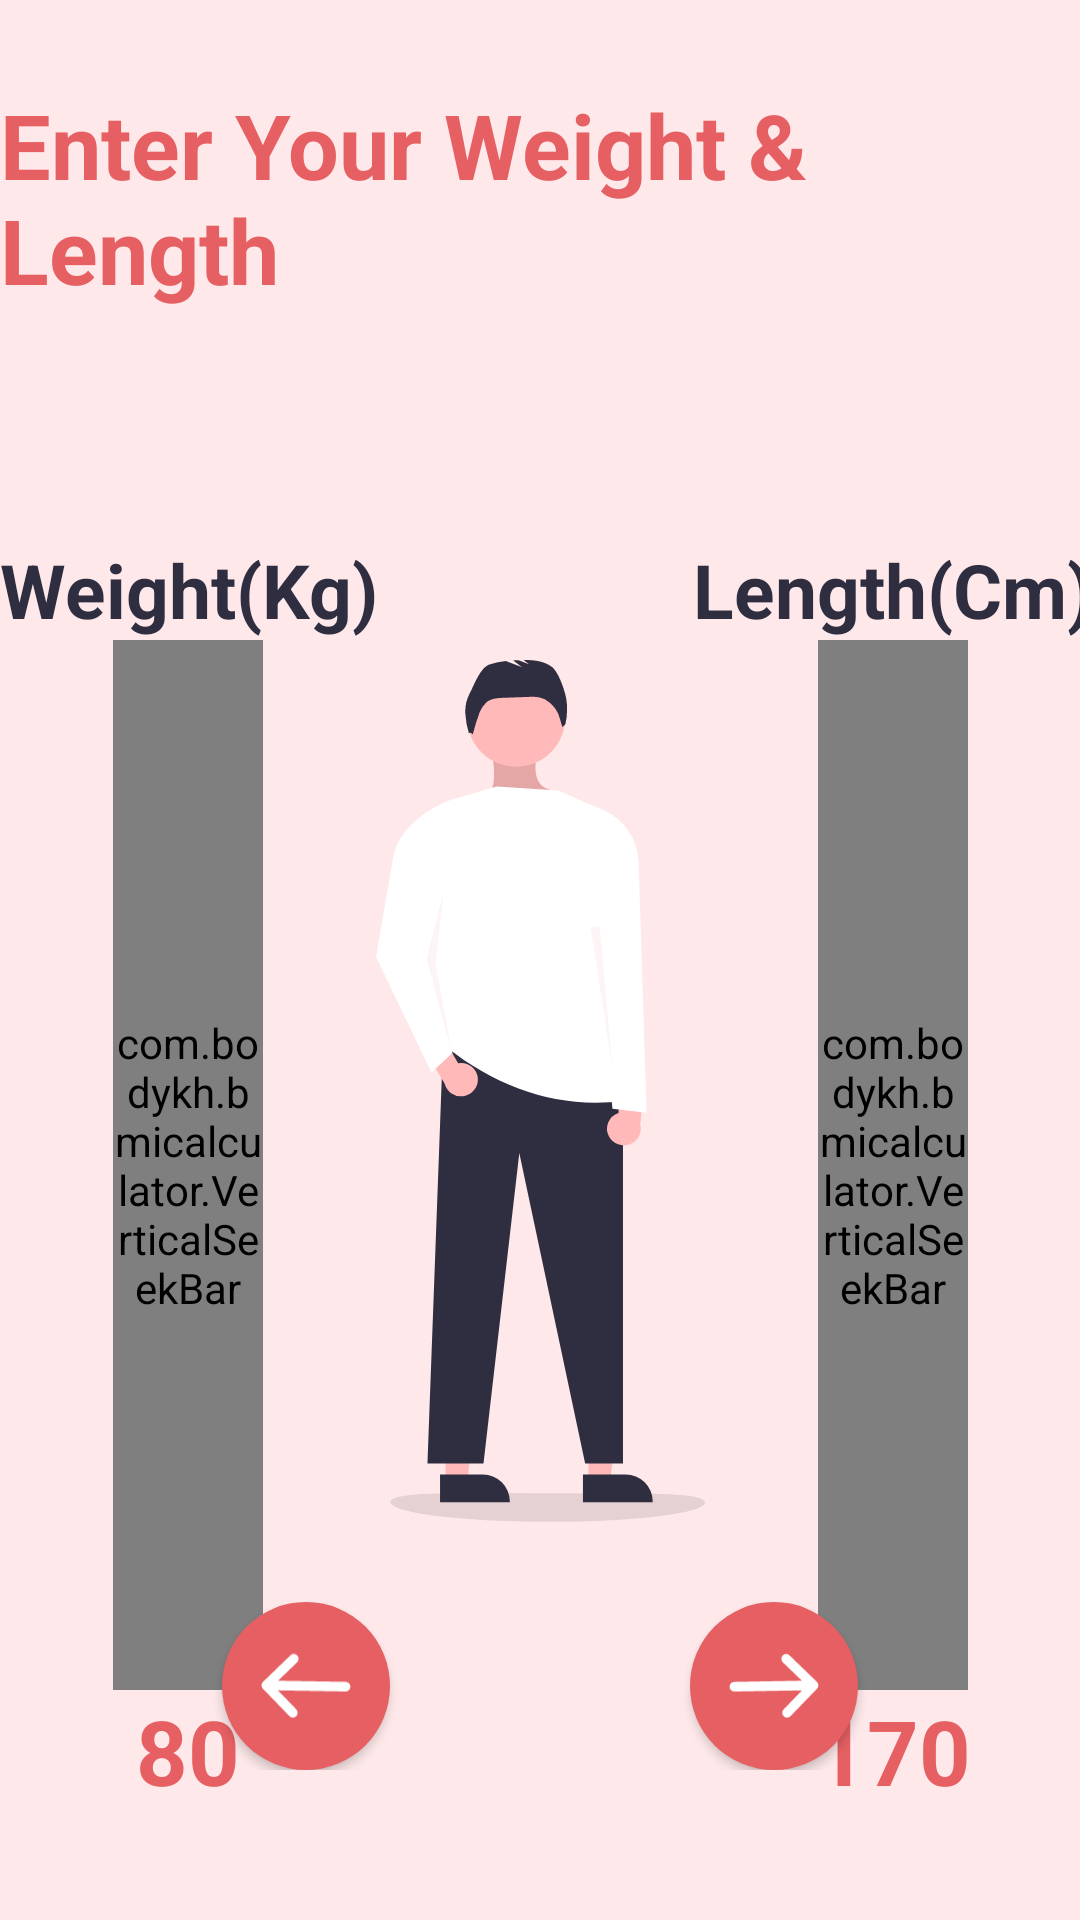

Icon bounding boxes for this 1080w x 1920h phone screenshot, format (x1, y1, x2, y2):
left arrow: (222, 1602, 390, 1770)
right arrow: (690, 1602, 858, 1770)
